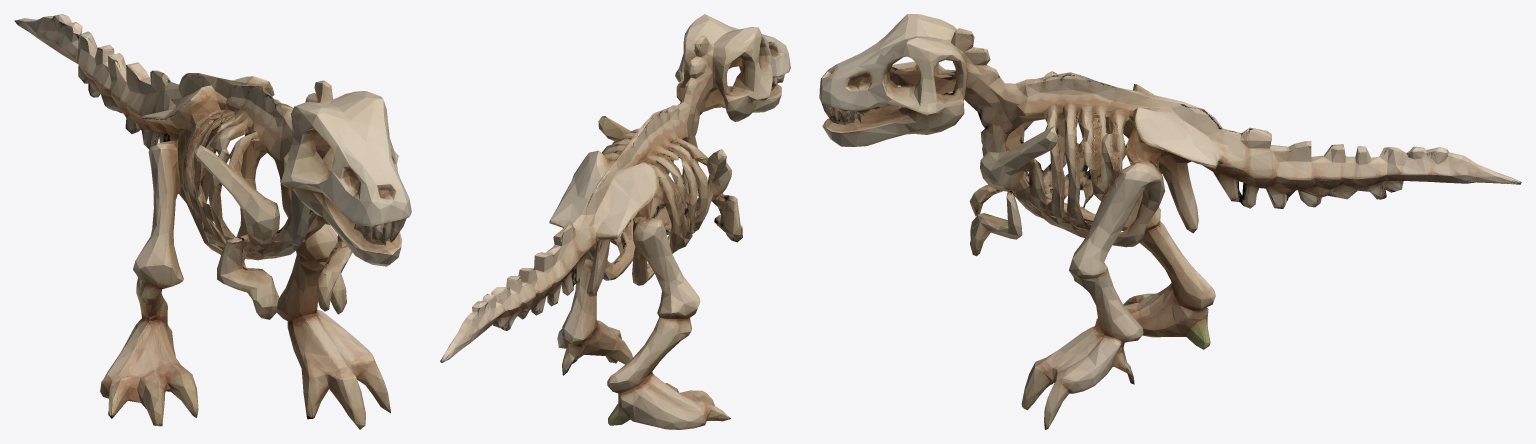
File: tyrannosaurus-skjelett.glb
The picture shows the model from 3 angles, left to right: view 1: azimuth 30°, elevation 25°; view 2: azimuth 150°, elevation 25°; view 3: azimuth 270°, elevation 25°; orthographic projection. The views are drawn at different scales.
Parts seen in each view (by area): view 1: geometry_0; view 2: geometry_0; view 3: geometry_0.
Boxes of the visible parts, left/top/right/bottom form: geometry_0: left=14, top=14, right=411, bottom=429; geometry_0: left=440, top=14, right=790, bottom=429; geometry_0: left=819, top=14, right=1521, bottom=429.
Bounding box in the file's own units: 0.3503 × 0.552 × 1.
Materials: 1 (1 with a texture image).
